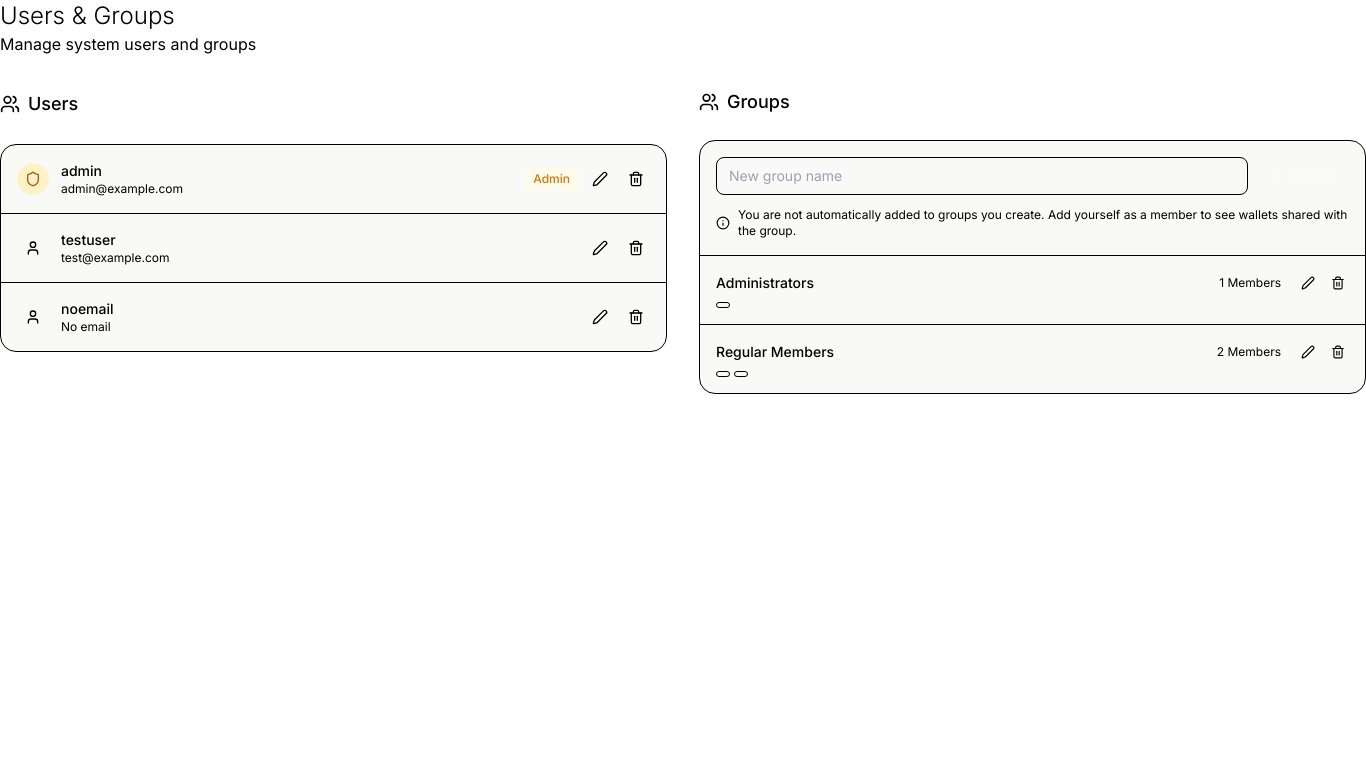
UsersGroups › edit group › opens edit modal when clicking edit button
The width and height of the screenshot is (1366, 768).
Expected: the heading "Administrators" is shown, [716, 273, 814, 293]
Click the button titled "edit" in the row of "Administrators": [1308, 283] box [1297, 272, 1319, 294]
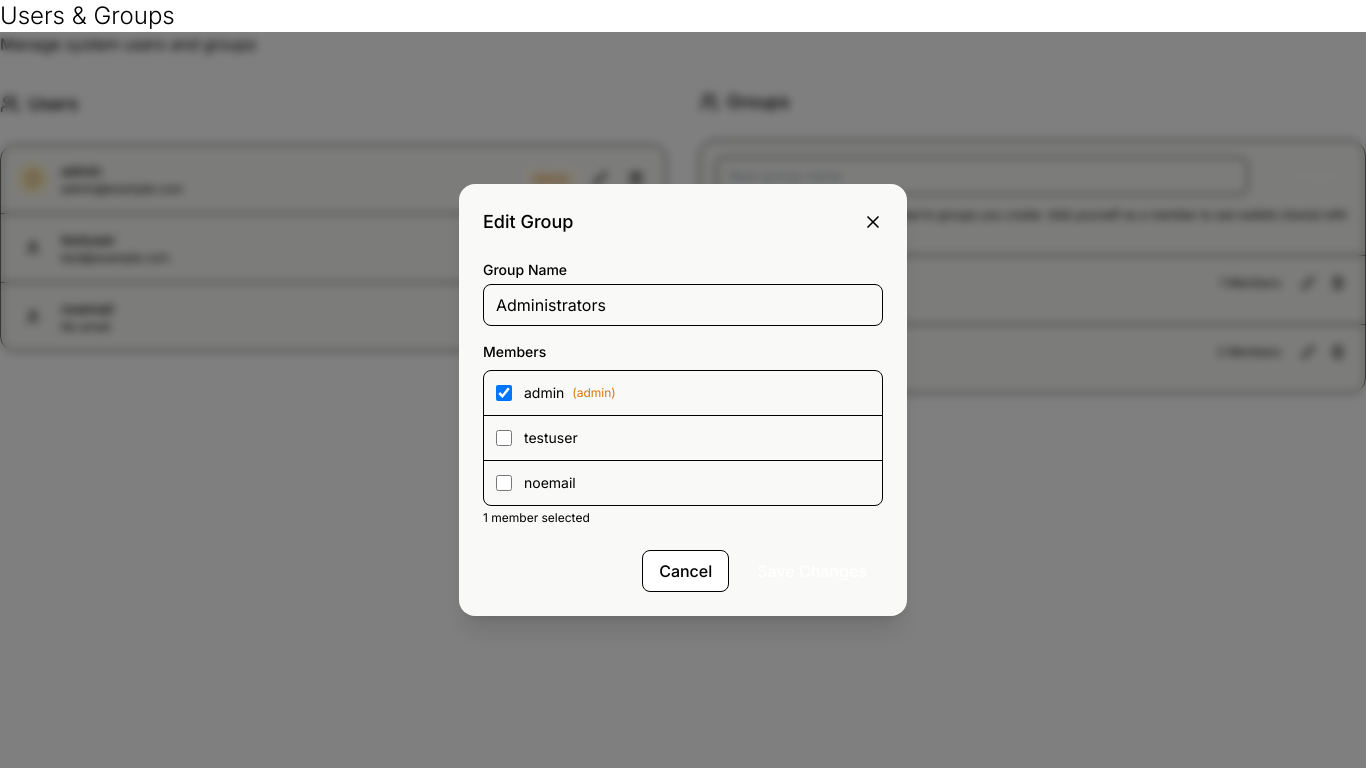
Now the field showing "Administrators" is shown, box [483, 284, 883, 326]
